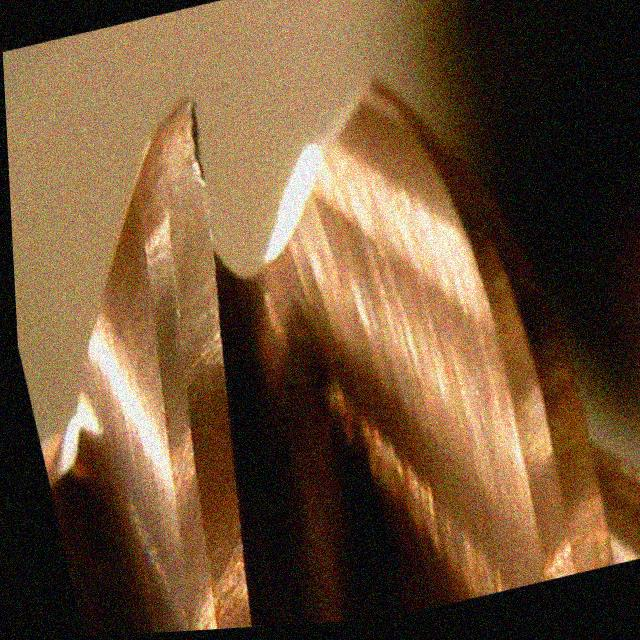Tool-wear-class-1: (104, 92, 251, 354)
